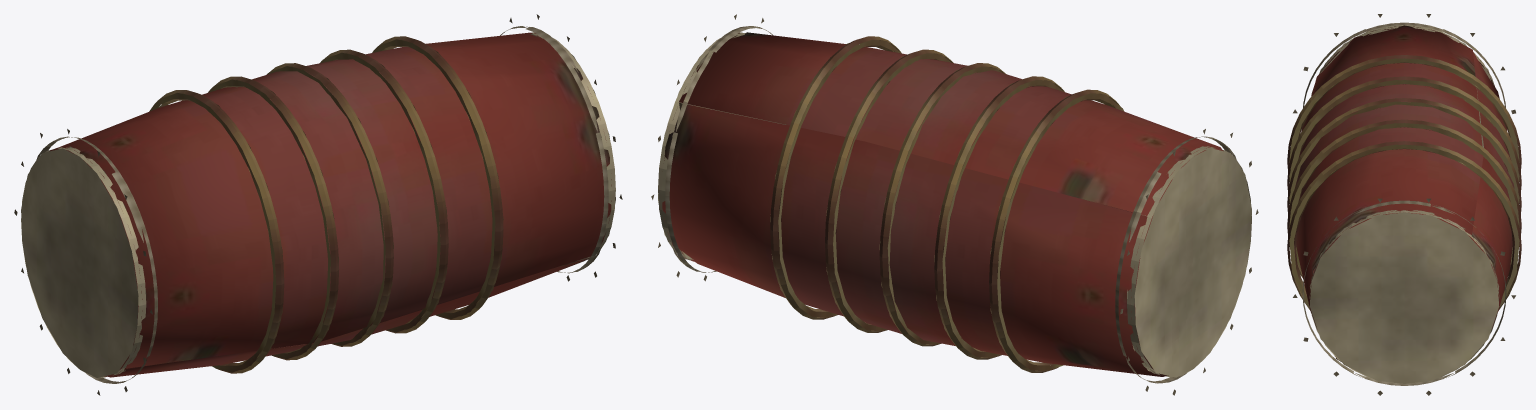
The model's file is MU03_Dholak.glb.
The picture shows the model from 3 angles, left to right: view 1: azimuth 30°, elevation 25°; view 2: azimuth 150°, elevation 25°; view 3: azimuth 270°, elevation 25°; orthographic projection. The views are drawn at different scales.
Visible parts, largest first — view 1: MU03_Dholak; view 2: MU03_Dholak; view 3: MU03_Dholak.
Part boxes in pixels (left/top/right/bottom): MU03_Dholak: left=14, top=14, right=622, bottom=395; MU03_Dholak: left=651, top=14, right=1258, bottom=395; MU03_Dholak: left=1287, top=14, right=1521, bottom=395.
Size of the model in its own units: 0.6 by 0.3167 by 0.3167.
Materials: 4 (4 with a texture image).
